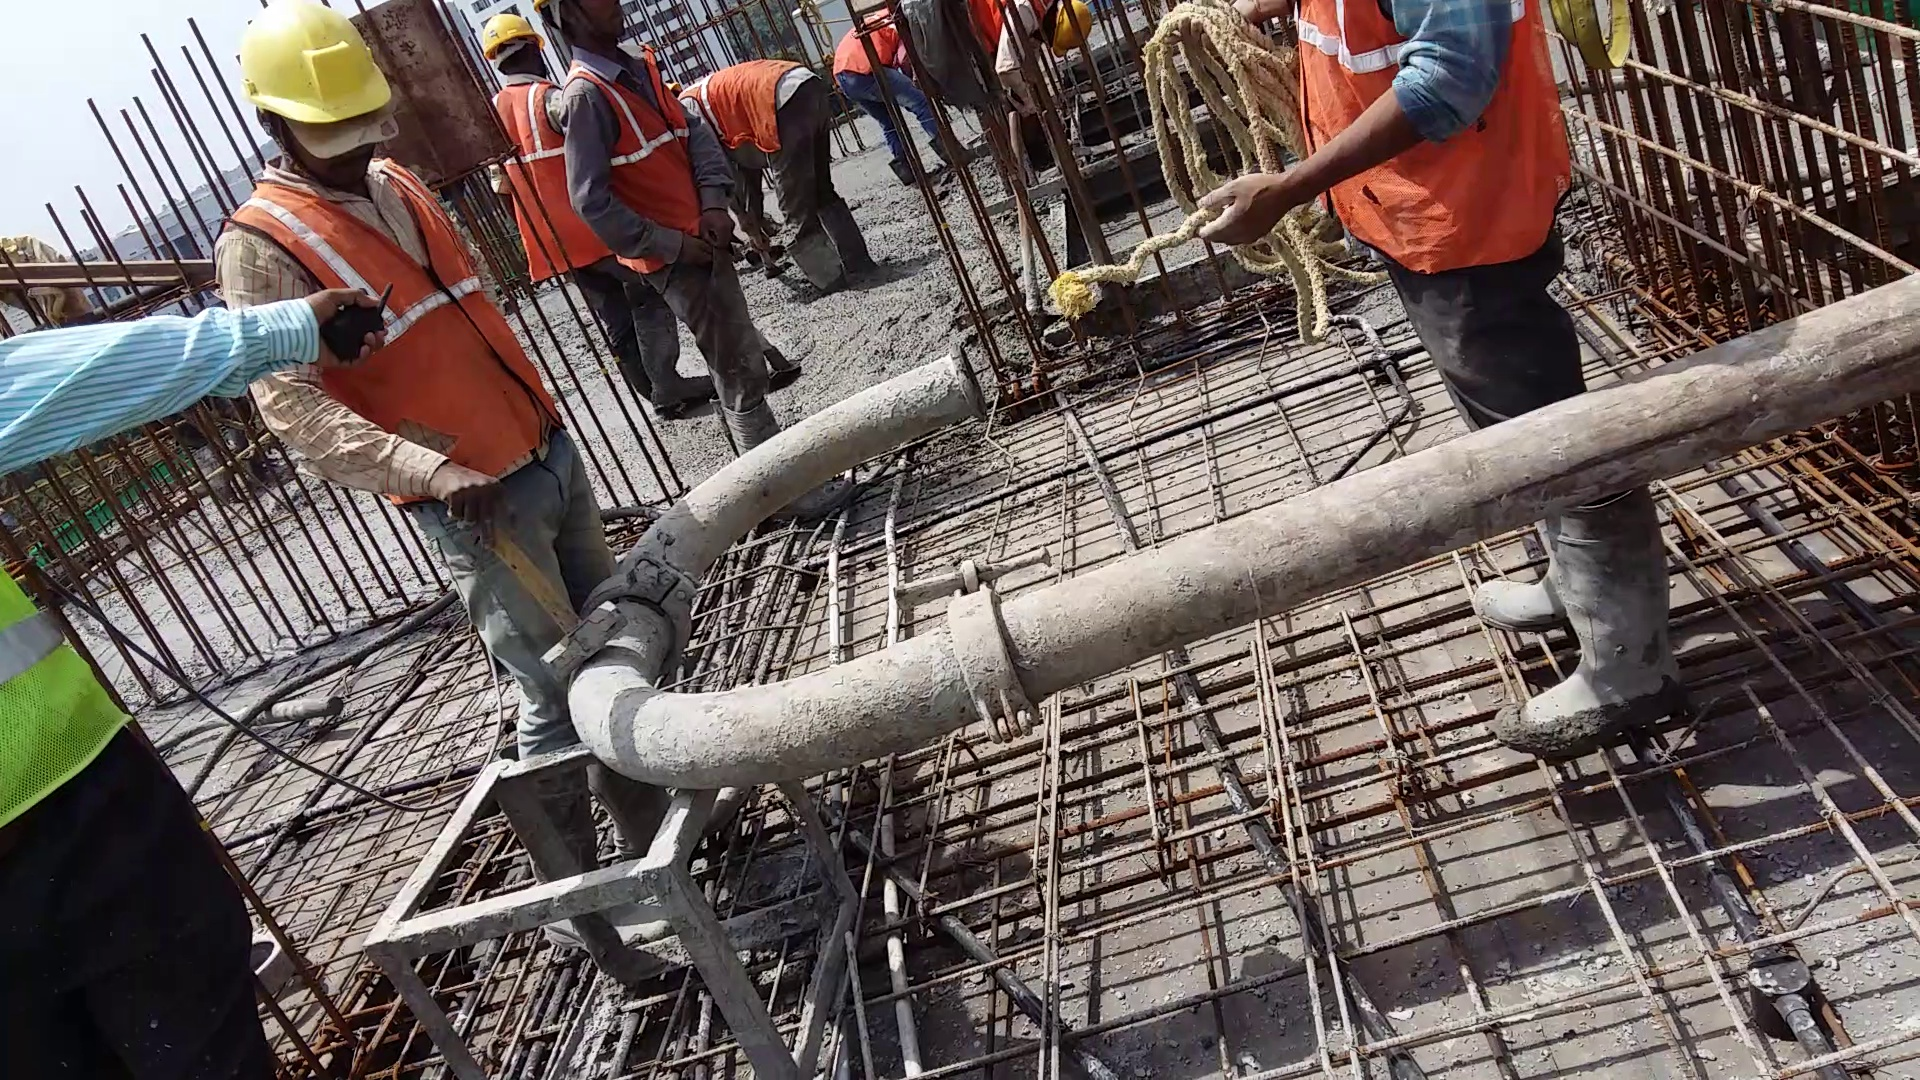SAFE: (223, 1, 446, 477), (484, 5, 572, 164)
